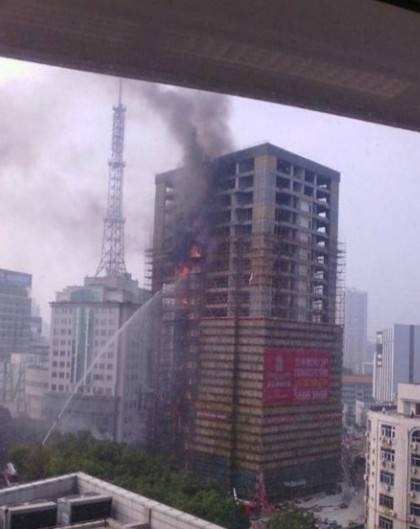fire: (170, 241, 203, 293)
